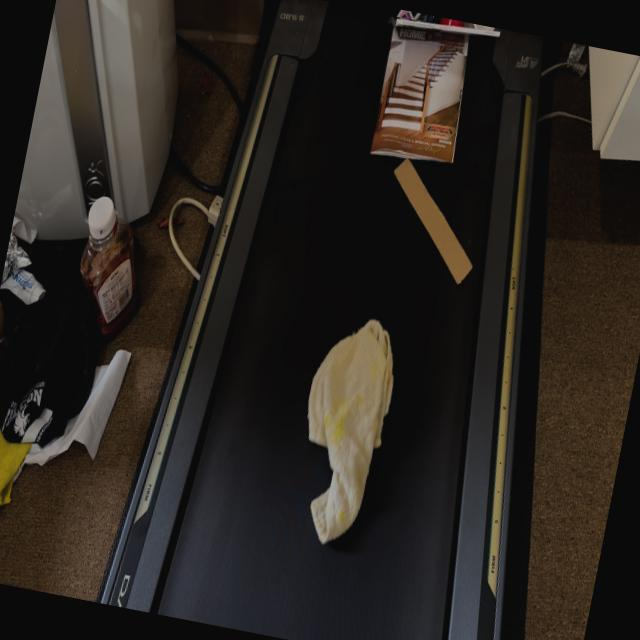Recycle: (368, 12, 480, 166), (368, 155, 492, 290)
Trash: (282, 308, 406, 554)
